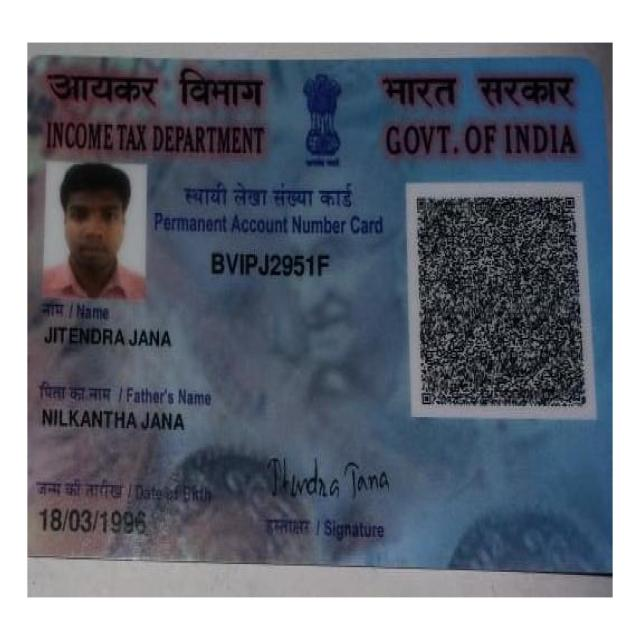pan_card: (27, 64, 613, 570)
